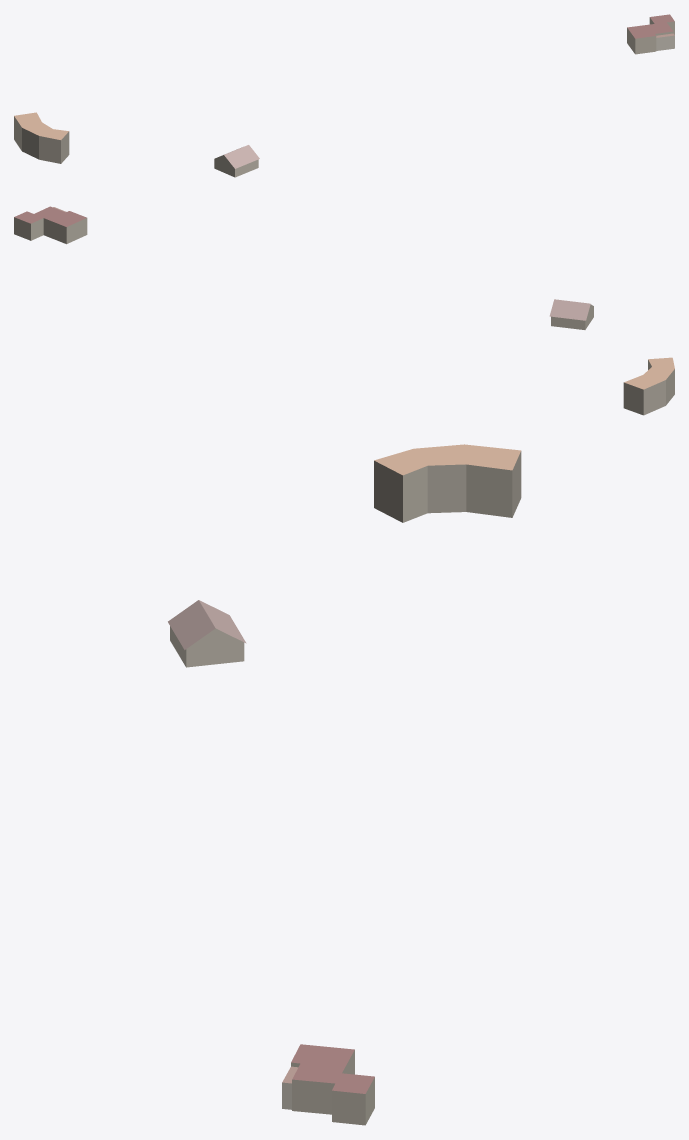
3 views of the same model, one above another, from view 1: azimuth 30°, elevation 25°; view 2: azimuth 150°, elevation 25°; view 3: azimuth 270°, elevation 25° (orthographic). The views are drawn at different scales.
Visible parts, largest first — view 1: tuile; view 2: tuile; view 3: tuile.
Boxes of the visible parts, <box> form: tuile: <box>14,14,674,177</box>; tuile: <box>14,206,674,415</box>; tuile: <box>168,444,521,1125</box>.
Bounding box in the file's own units: 243 × 13.56 × 59.71.
